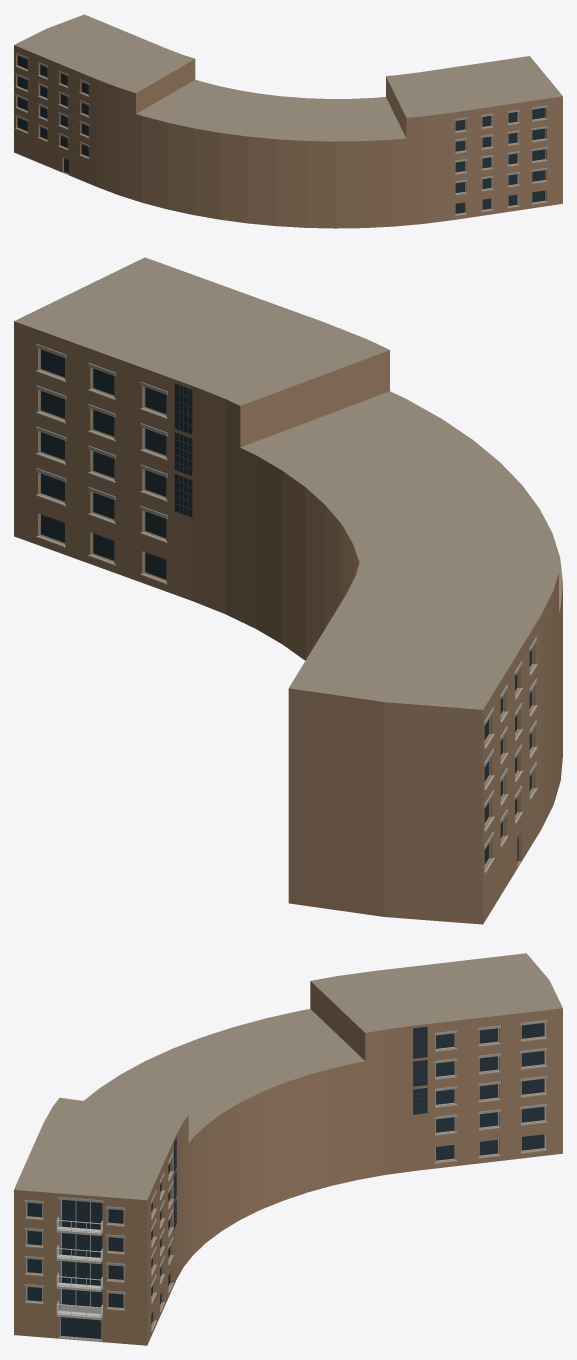
Rendered from recipe-large-windrooskade-2-180754.glb.
3 views of the same model, one above another, from view 1: azimuth 30°, elevation 25°; view 2: azimuth 150°, elevation 25°; view 3: azimuth 270°, elevation 25° (orthographic). The views are drawn at different scales.
Parts seen in each view (by area): view 1: windrooskade-2-180754; view 2: windrooskade-2-180754; view 3: windrooskade-2-180754.
Boxes of the visible parts, x1,y1,x2,y2 form: windrooskade-2-180754: (14, 14, 562, 228); windrooskade-2-180754: (14, 257, 562, 924); windrooskade-2-180754: (14, 953, 562, 1345).
Bounding box in the file's own units: 50.96 × 13.96 × 47.71.
